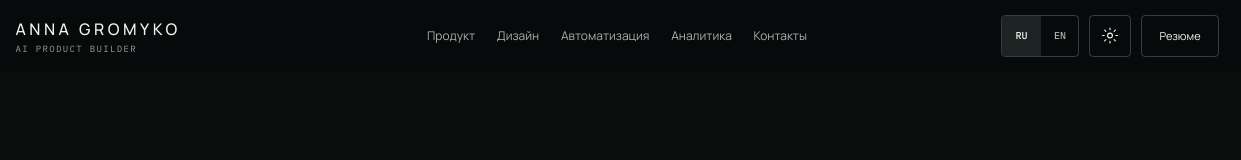
portfolio systems › exposes an honest localized unavailable Resume control
Click the button "Резюме" at (1180, 36), box [1141,14,1219,56]
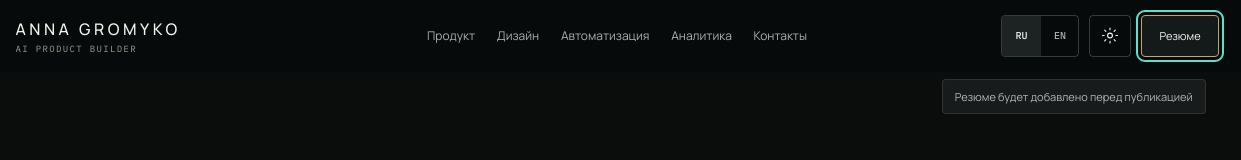
Result: the message reads "Резюме будет добавлено перед публикацией" at [955,89,1193,104]
Click the button "EN" at (1059, 36), box [1040,16,1078,56]
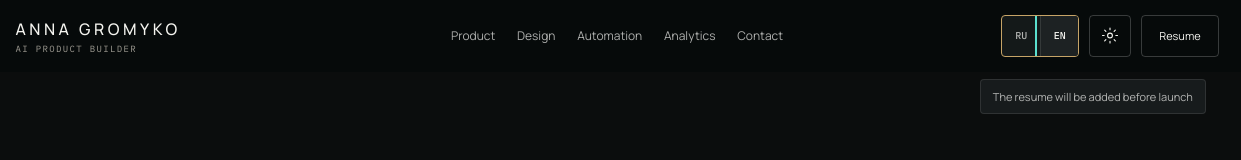
Expected: the button "Resume" is shown, [1141,14,1219,56]
Result: the message reads "The resume will be added before launch" at [993,89,1193,104]
